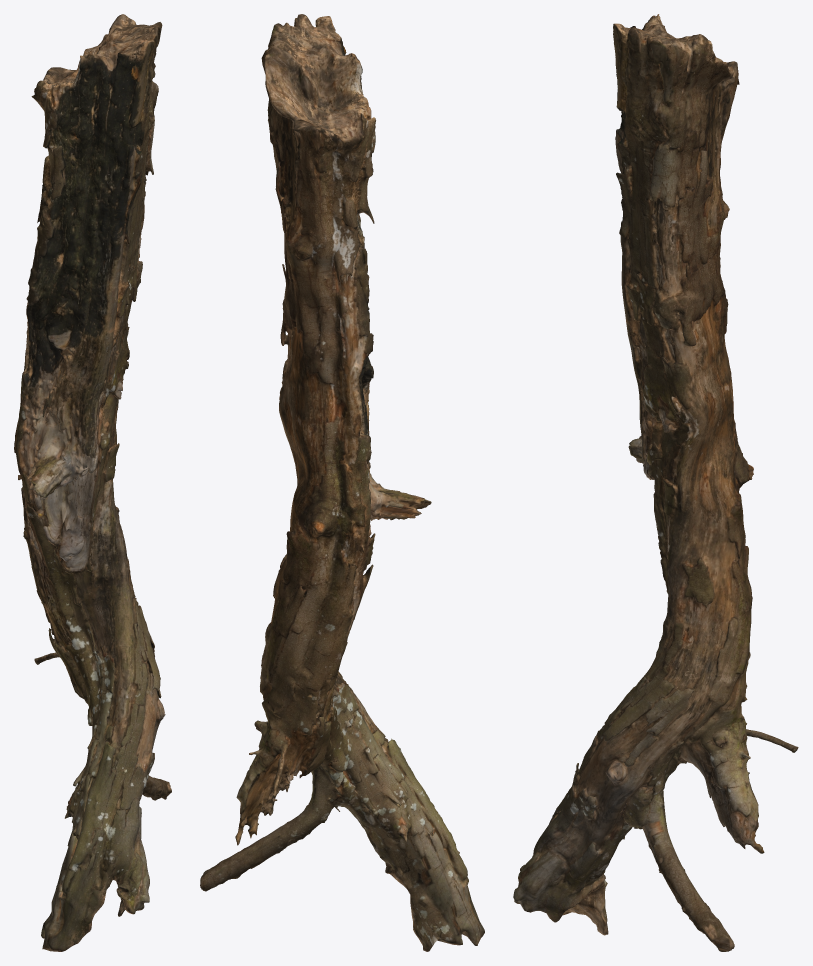
Rendered from SM_PH_dead_tree_trunk_02.fbx.
3 renders of one model, left to right at view 1: azimuth 30°, elevation 25°; view 2: azimuth 150°, elevation 25°; view 3: azimuth 270°, elevation 25°, orthographic. The views are drawn at different scales.
Parts seen in each view (by area): view 1: SM_PH_dead_tree_trunk_02; view 2: SM_PH_dead_tree_trunk_02; view 3: SM_PH_dead_tree_trunk_02.
Part boxes in pixels (left/top/right/bottom): SM_PH_dead_tree_trunk_02: left=14, top=14, right=171, bottom=951; SM_PH_dead_tree_trunk_02: left=200, top=14, right=484, bottom=951; SM_PH_dead_tree_trunk_02: left=513, top=14, right=798, bottom=951.
Size of the model in its own units: 0.93 by 1.08 by 4.02.
Materials: 1 (1 with a texture image).
